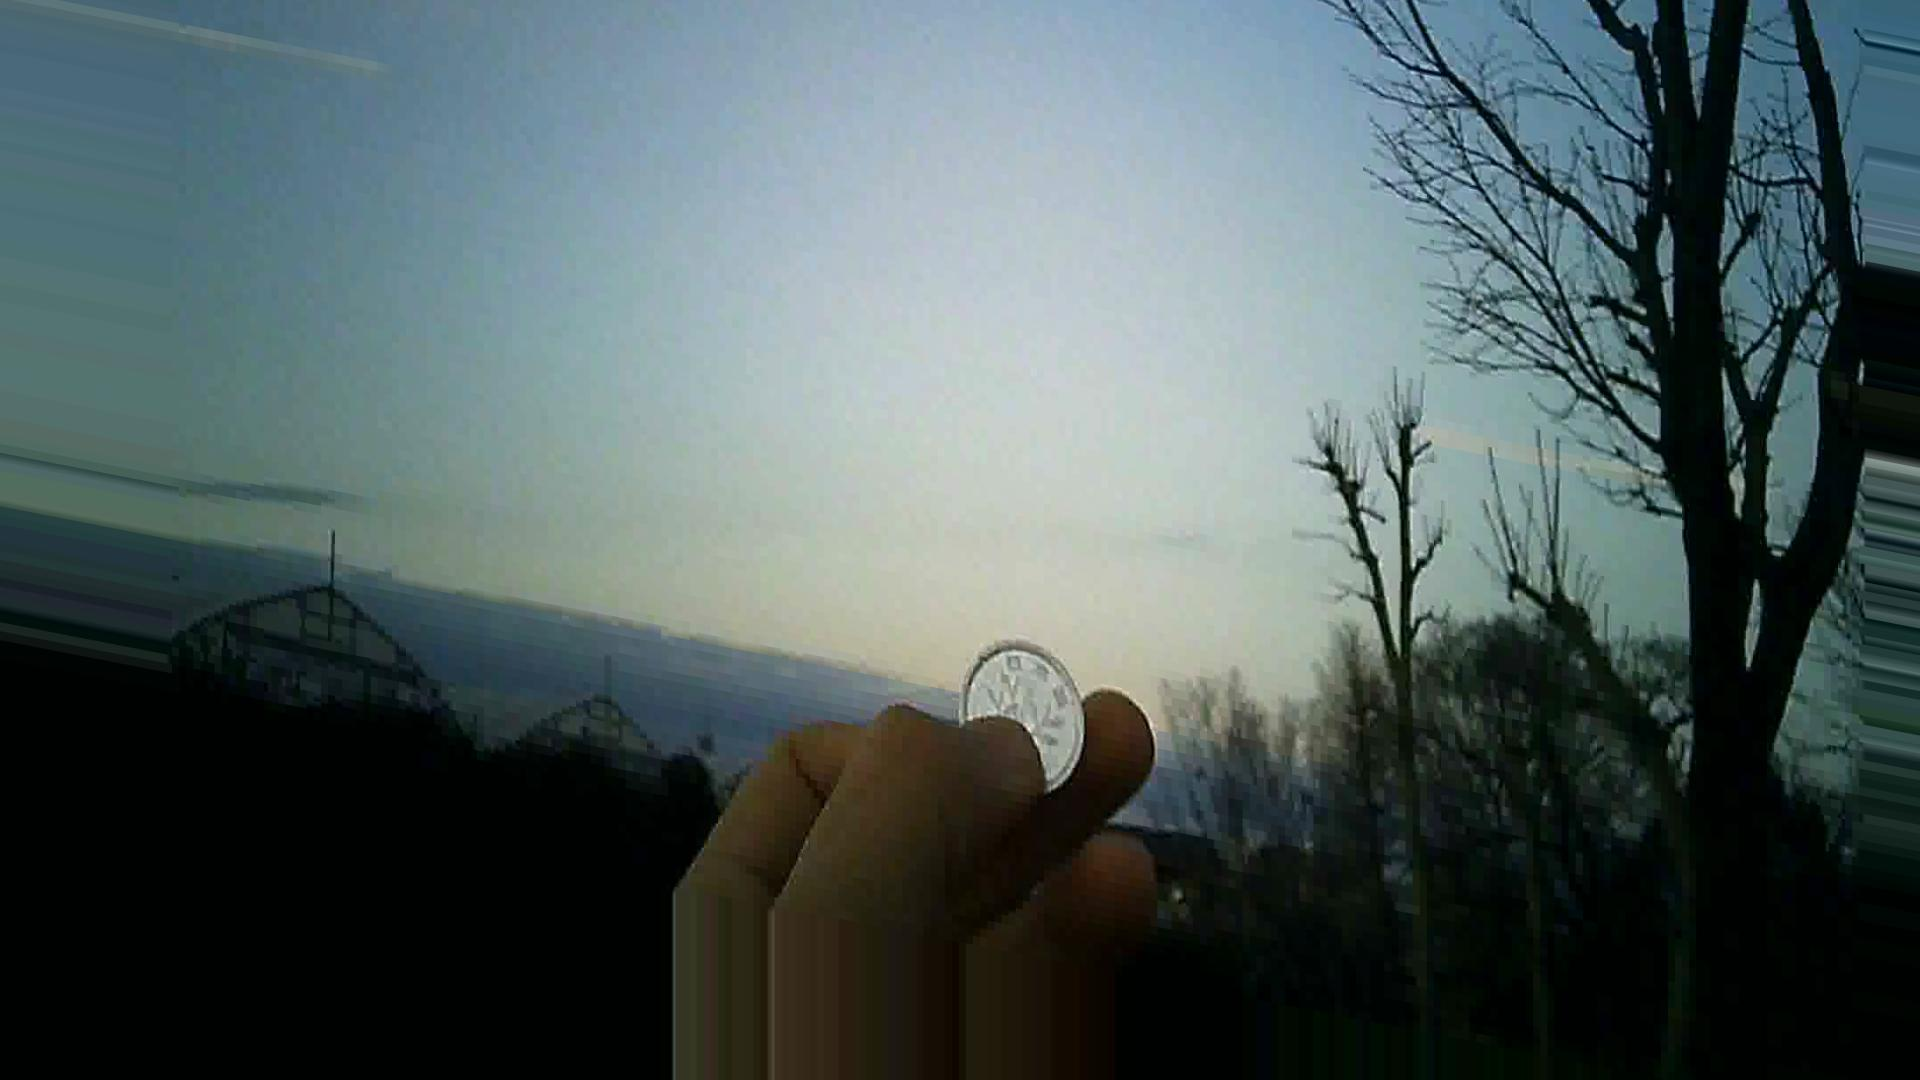1 Yen: (952, 632, 1092, 789)
